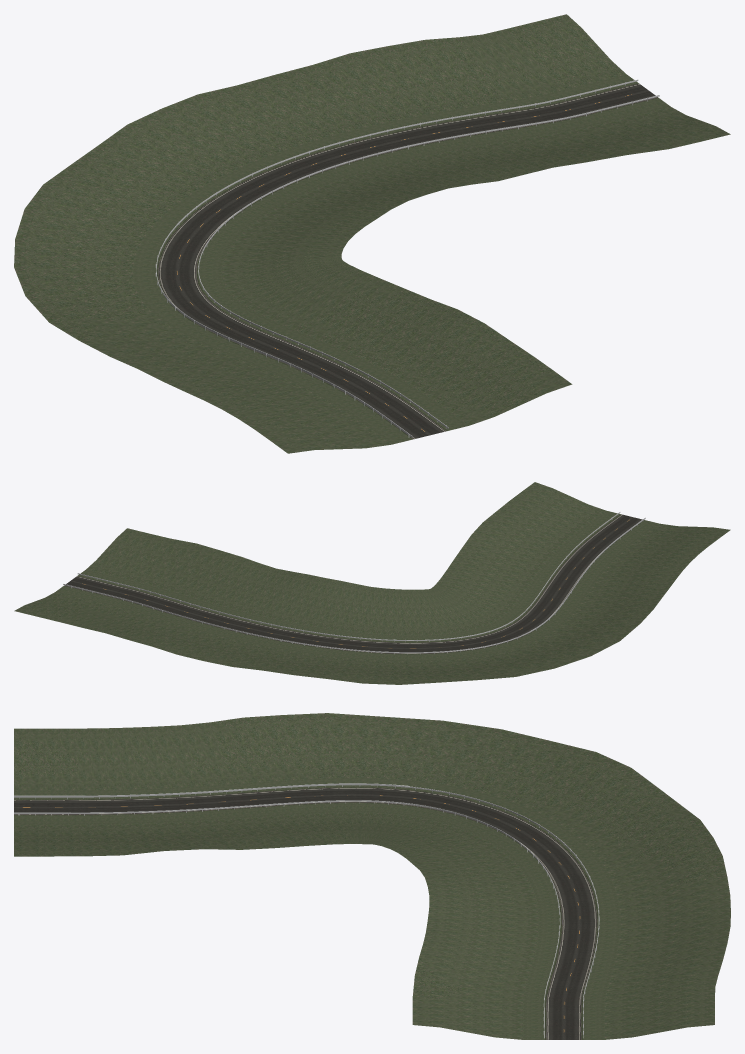
The picture shows the model from 3 angles, top to bottom: view 1: azimuth 30°, elevation 25°; view 2: azimuth 150°, elevation 25°; view 3: azimuth 270°, elevation 25°; orthographic projection. The views are drawn at different scales.
Parts seen in each view (by area): view 1: Grass, HighWay, GuardRail; view 2: Grass, HighWay, GuardRail; view 3: Grass, HighWay, GuardRail.
Boxes of the visible parts, box(x1,y1,x2,y2) form: Grass: box(14, 14, 730, 453); HighWay: box(157, 83, 658, 439); GuardRail: box(155, 79, 659, 437); Grass: box(14, 482, 730, 684); HighWay: box(64, 514, 644, 654); GuardRail: box(63, 512, 645, 654); Grass: box(14, 713, 730, 1039); HighWay: box(14, 787, 598, 1039); GuardRail: box(14, 783, 599, 1038).
Size of what is drawn, in the model's own units: 270 by 10.41 by 261.
